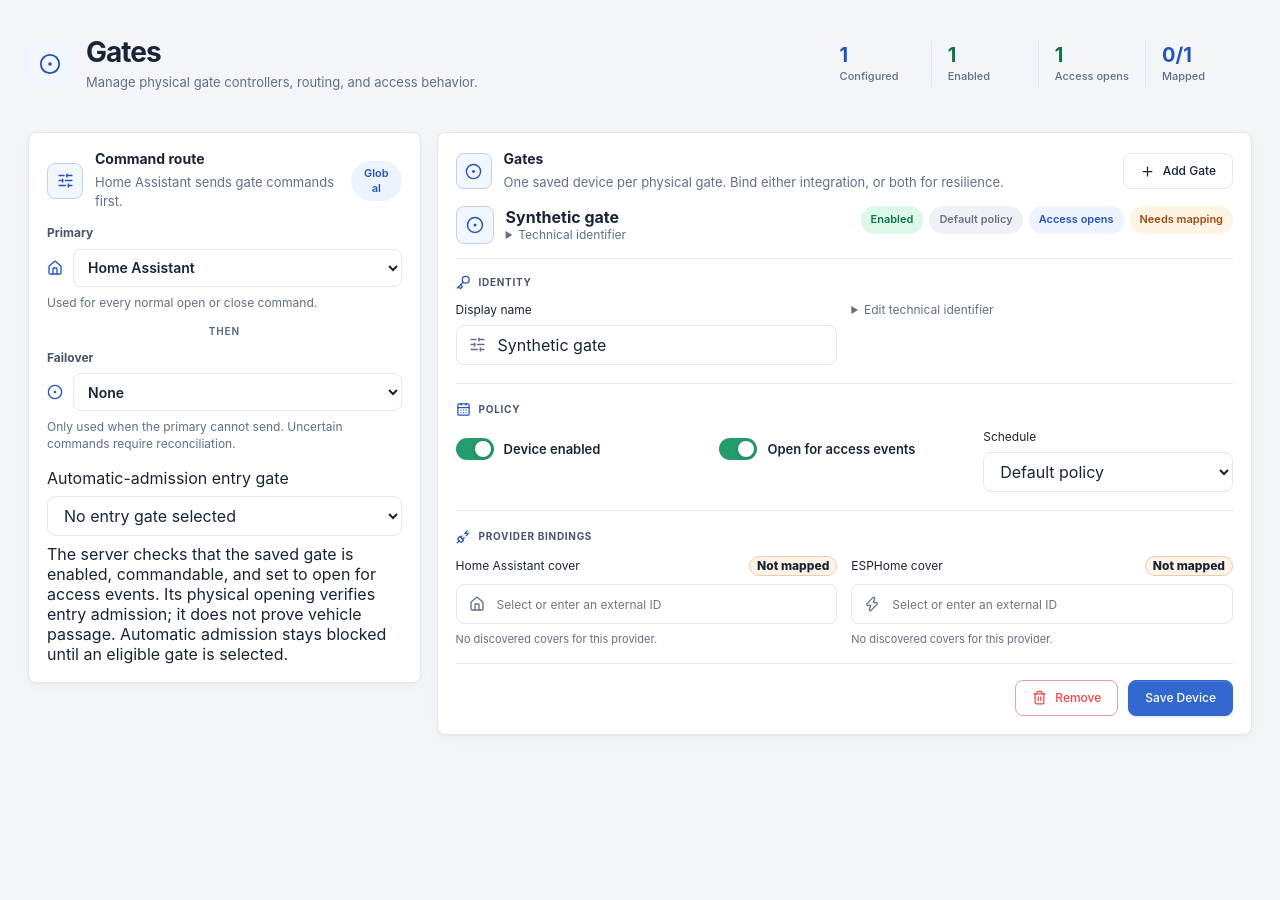
Test case: keeps an accepted device delete distinct from a failed following read
Click the button "Remove". click: (1067,698)
box: [1015,680,1118,716]
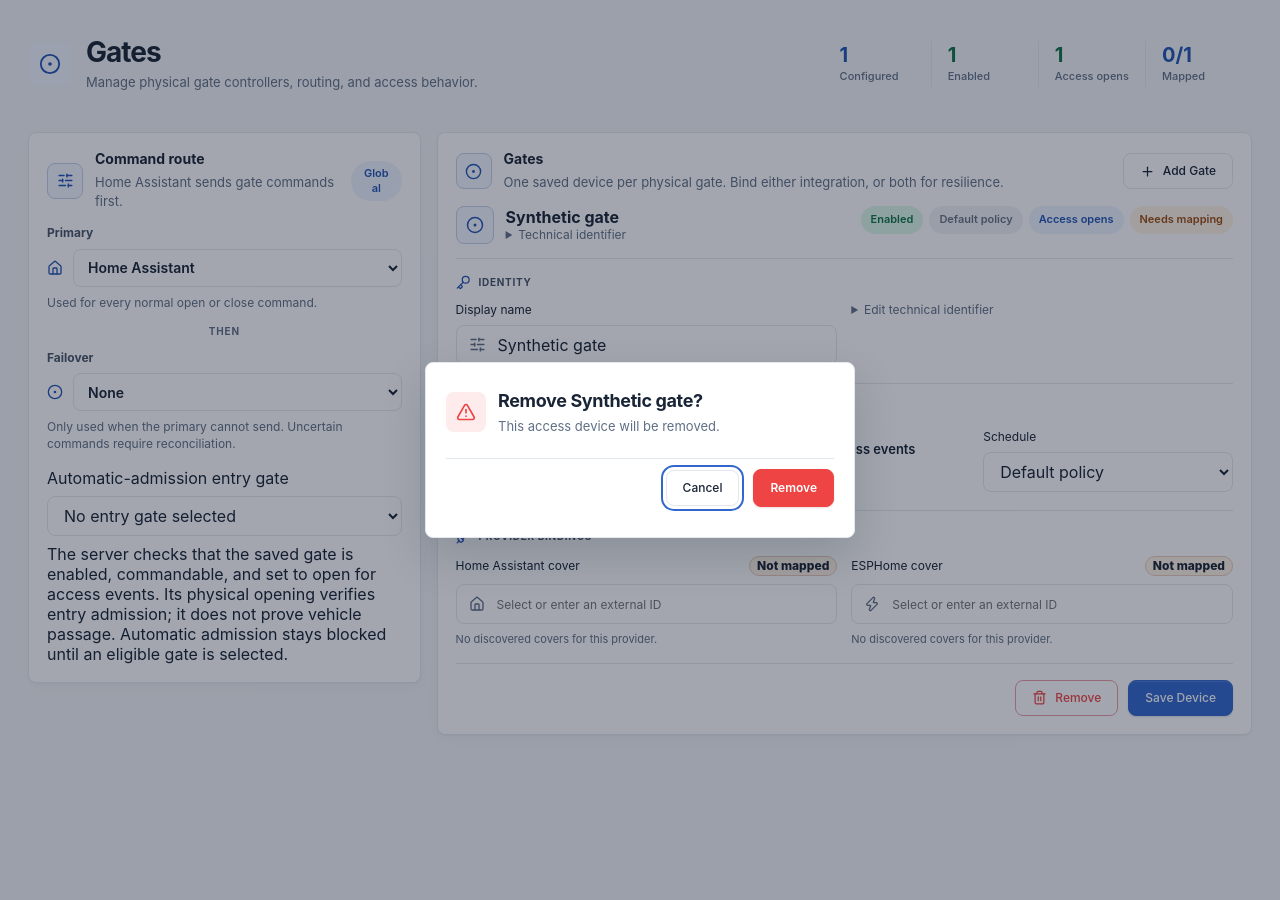
Click the button "Remove". click: (794,488)
box: [753,469,834,507]
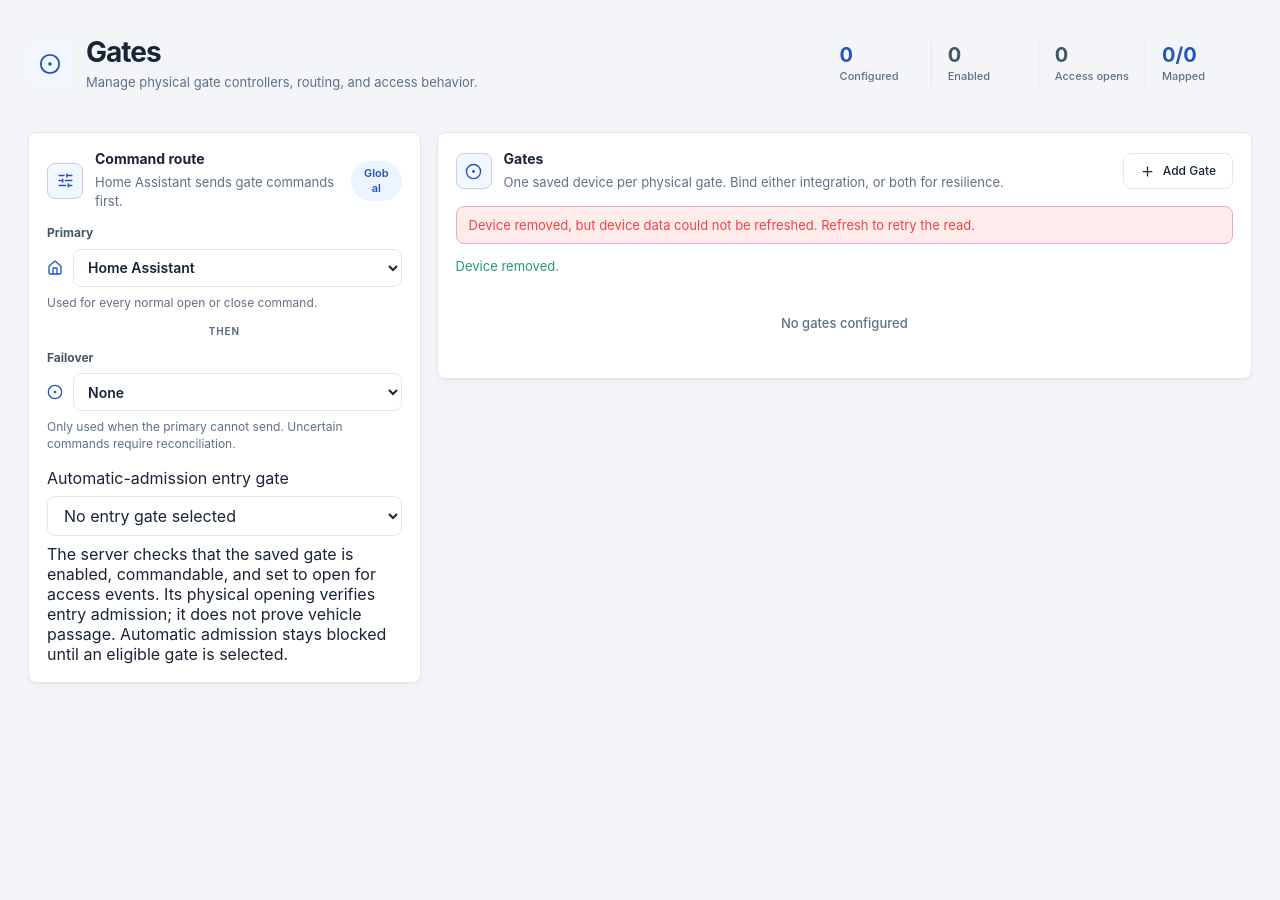
expect the button "Remove " is gone: met
expect the text "Device removed." is shown: met, box [456,258,559,274]
expect the text "Device removed, but device data could not be refreshed. Refresh to retry the read." is shown: met, box [469,217,975,233]
